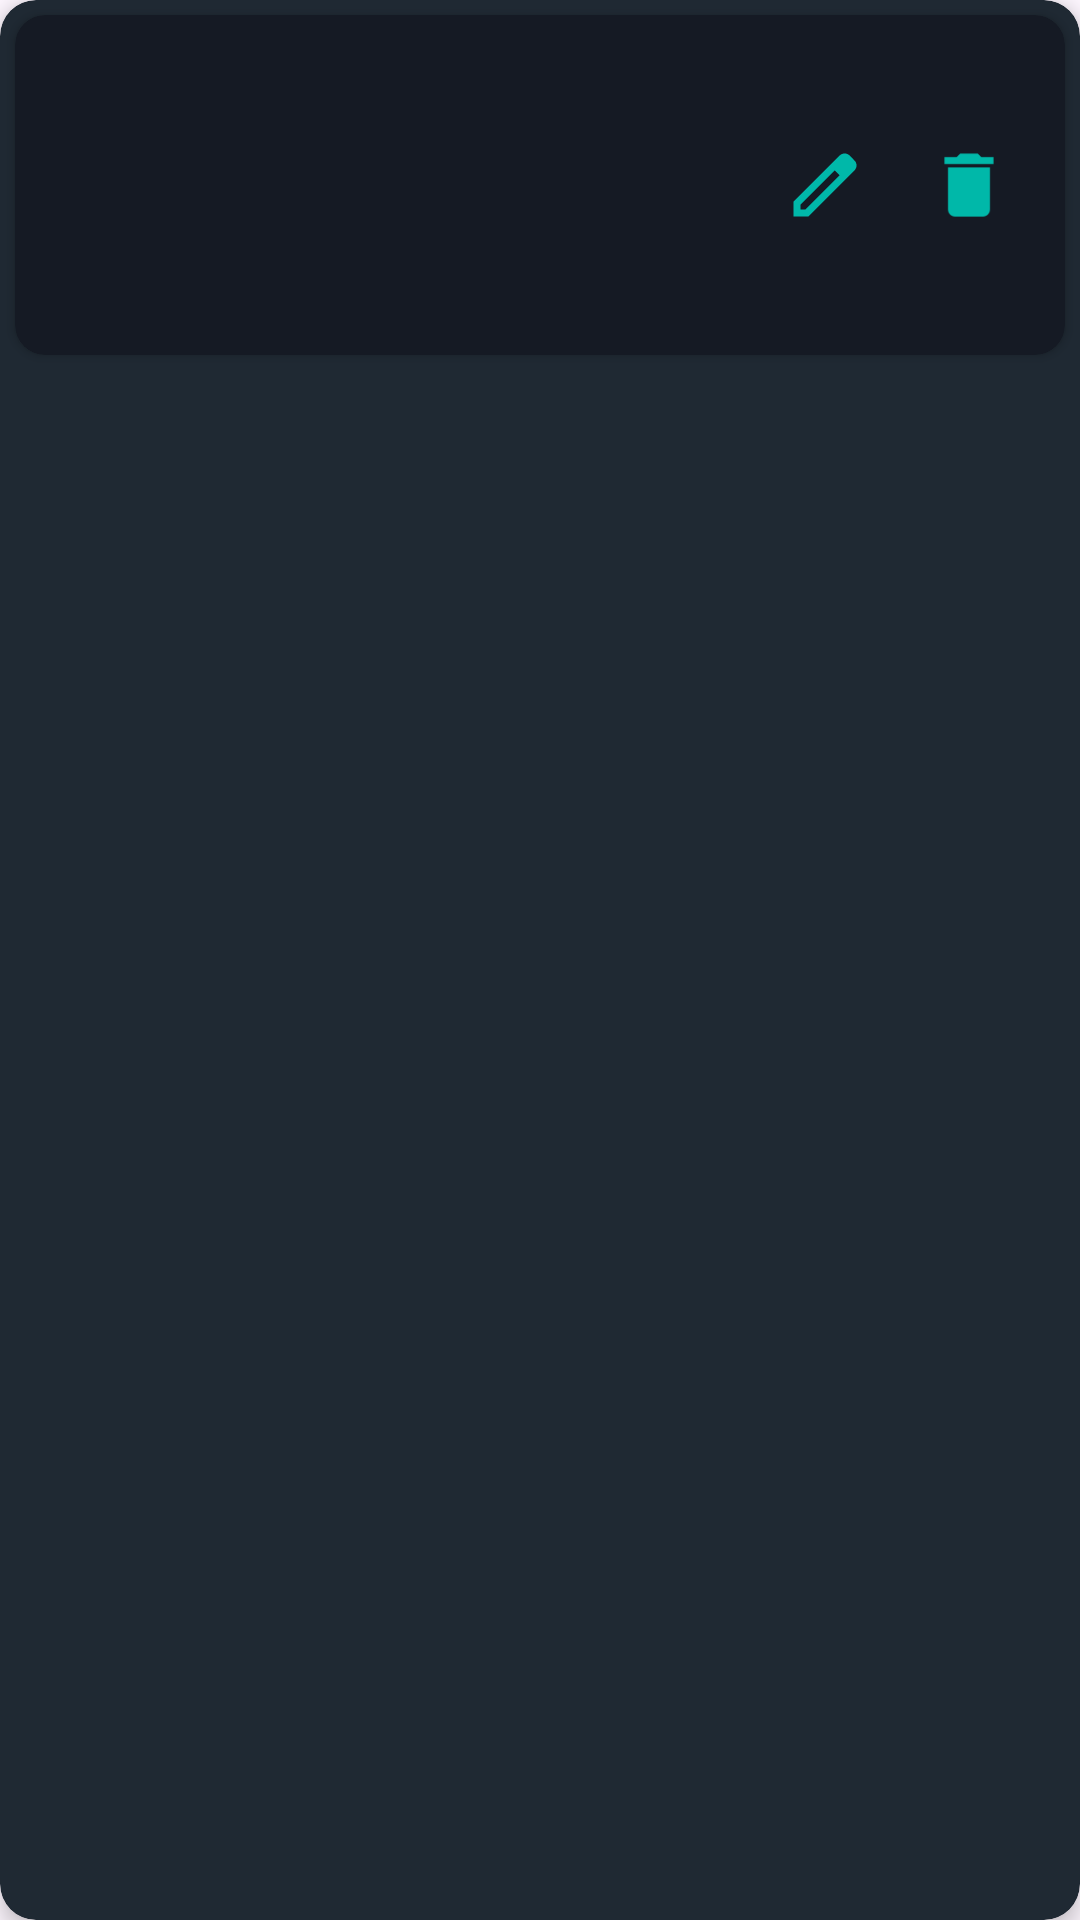

Icons on this 1080px×1920px Android screen, each with its box as (x1=x1, y1=y1, x2=x2, y2=y2):
delete: (x1=944, y1=153, x2=994, y2=217)
update: (x1=793, y1=153, x2=857, y2=217)
